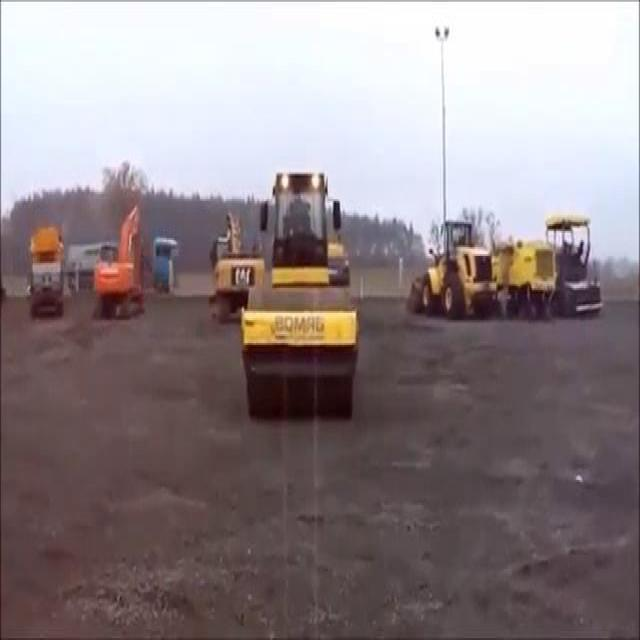Excavator: (207, 208, 260, 320), (95, 204, 145, 318)
Loader: (423, 219, 493, 309)
Roller: (244, 169, 355, 414)
